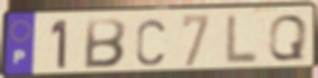1: (48, 18, 70, 72)
7: (179, 13, 214, 69)
B: (82, 17, 129, 69)
C: (134, 17, 167, 68)
L: (223, 12, 261, 66)
Q: (266, 13, 310, 63)
